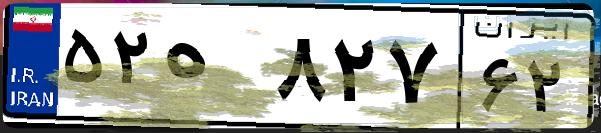2: (330, 28, 385, 110), (525, 38, 570, 115), (110, 28, 158, 98)
5: (57, 26, 110, 100)
6: (475, 38, 525, 113)
7: (385, 28, 445, 110)
8: (270, 28, 330, 110)
ه: (158, 20, 270, 120)
